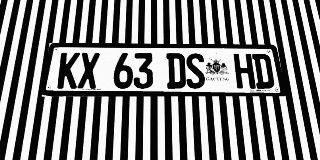3: (133, 53, 153, 89)
6: (113, 53, 134, 89)
D: (252, 54, 275, 89), (166, 53, 186, 89)
H: (233, 54, 256, 89)
K: (57, 52, 80, 89)
S: (185, 53, 206, 89)
X: (77, 53, 100, 89)
